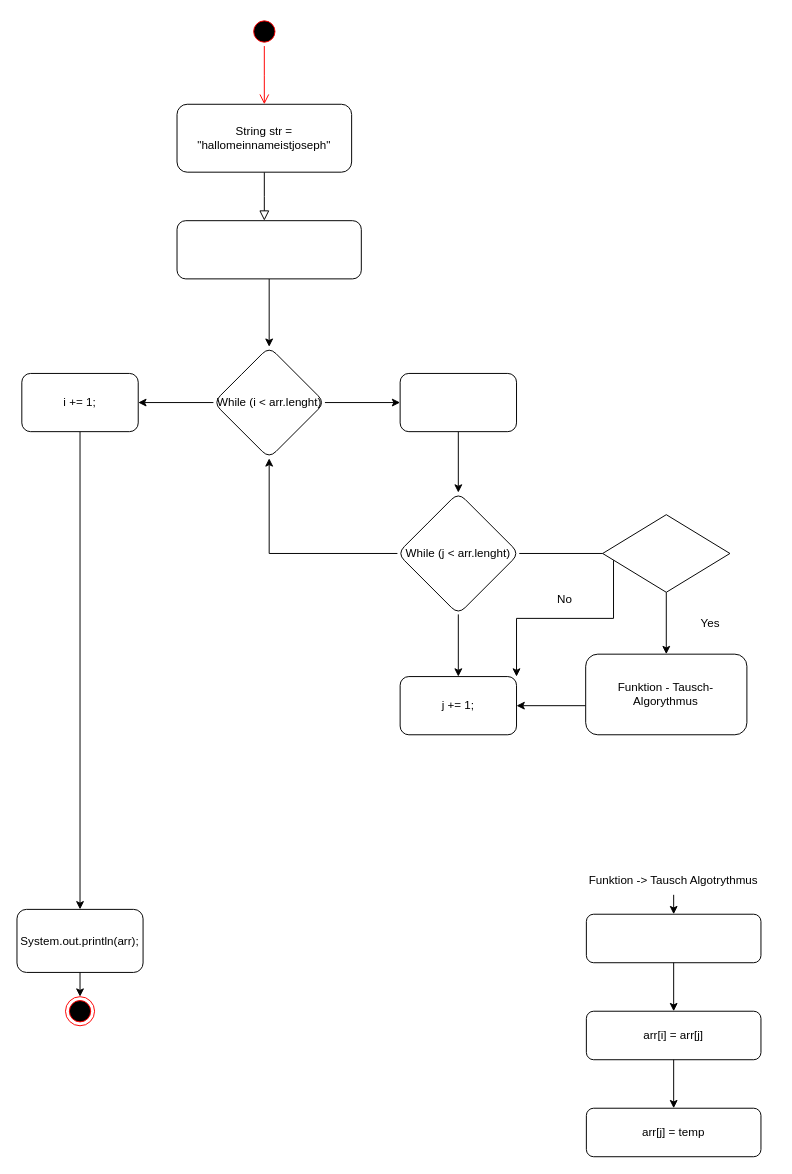
This 792x1174 diagram has some shape labels left out. The box of each missing label's shape, as (x1, y1, x2, y2) in pixels:
char arr [] str toCharArray(); char temp: int i= 0;: (176, 220, 361, 279)
if(arr[j] < arr[i]): (602, 514, 730, 592)
int j = i + 1: (399, 372, 517, 432)
temp = arr[i]: (585, 913, 761, 963)
